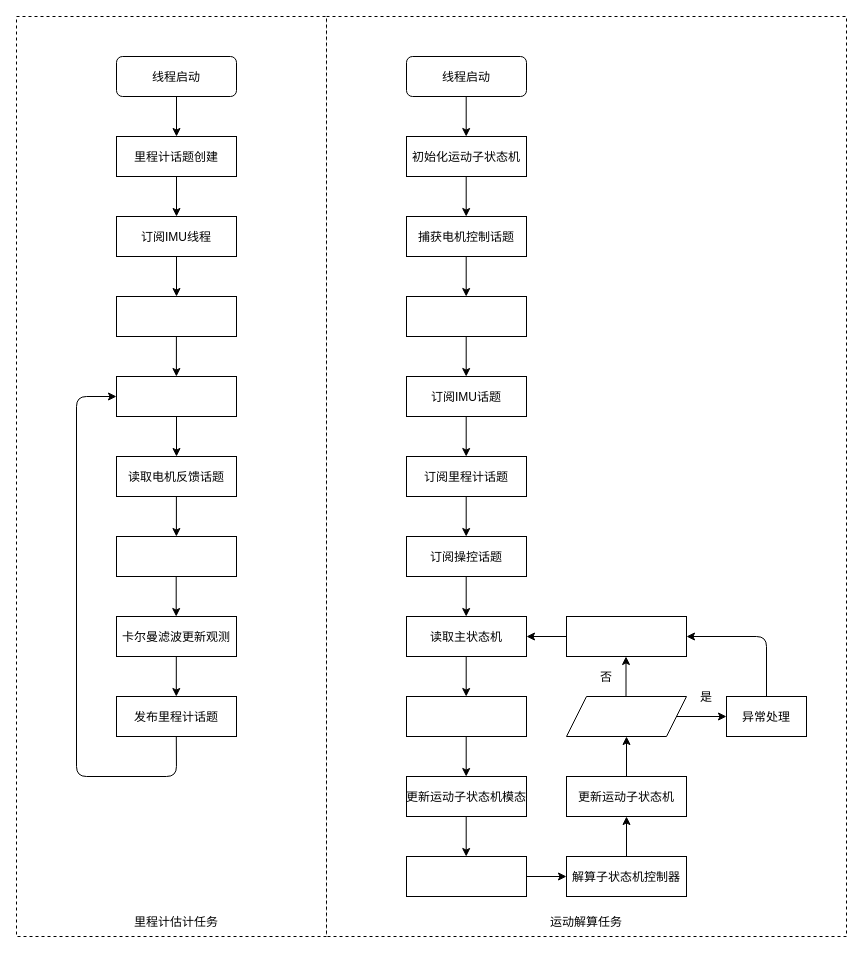
The diagram is 863 pixels wide and 953 high, and some of its shapes have lost their labels. Here are the shapes that lost their labels. From the top down, the box of each, then its label:
(116, 296, 236, 336): 订阅电机反馈值话题
(406, 296, 526, 336): 订阅电机反馈话题
(116, 376, 236, 416): 读取IMU话题
(116, 536, 236, 576): 对齐时间戳
(566, 616, 686, 656): 发布电机控制话题
(406, 696, 526, 736): 读取各话题
(566, 696, 686, 736): 异常检测
(406, 856, 526, 896): 更新子状态机状态变量
